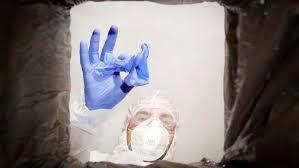Glove: (80, 26, 148, 109)
Mask: (131, 118, 168, 160)
